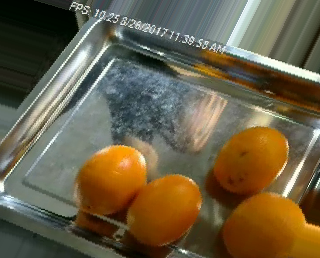Orange: (221, 191, 307, 258), (127, 173, 201, 245), (214, 125, 290, 194), (74, 144, 148, 214)
